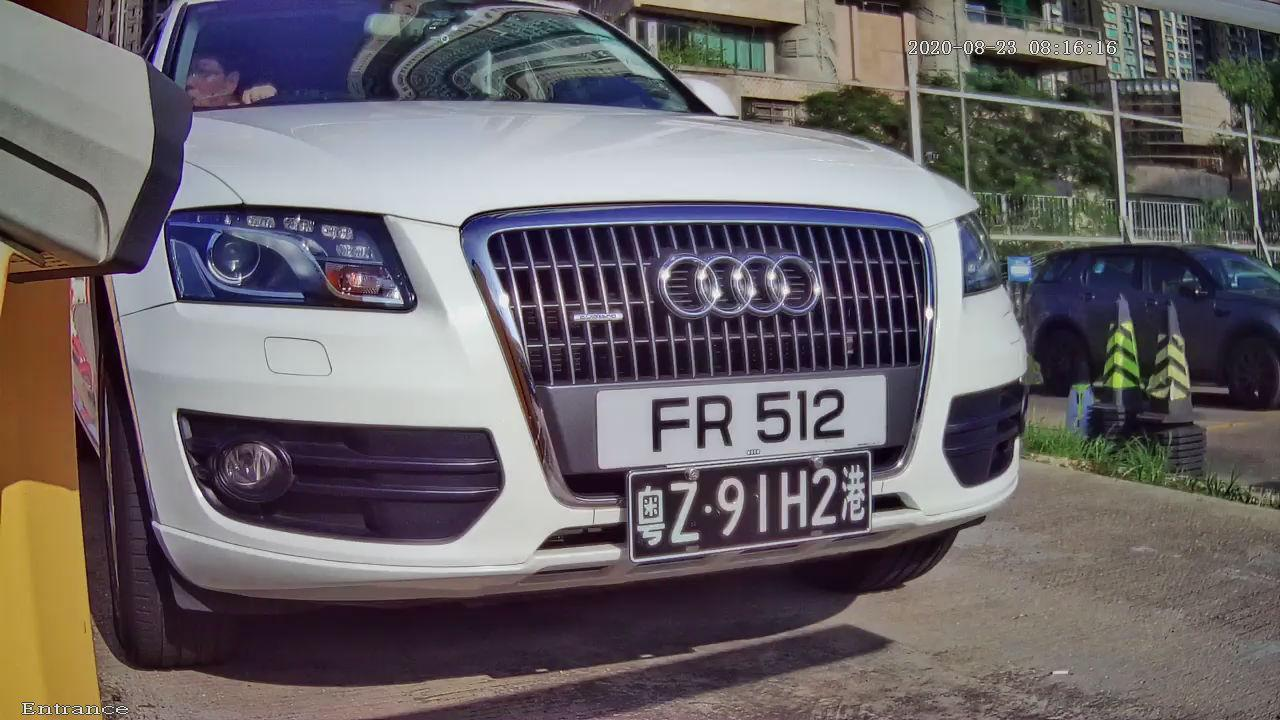Car: (35, 7, 1109, 704)
License Plate: (552, 322, 950, 504)
